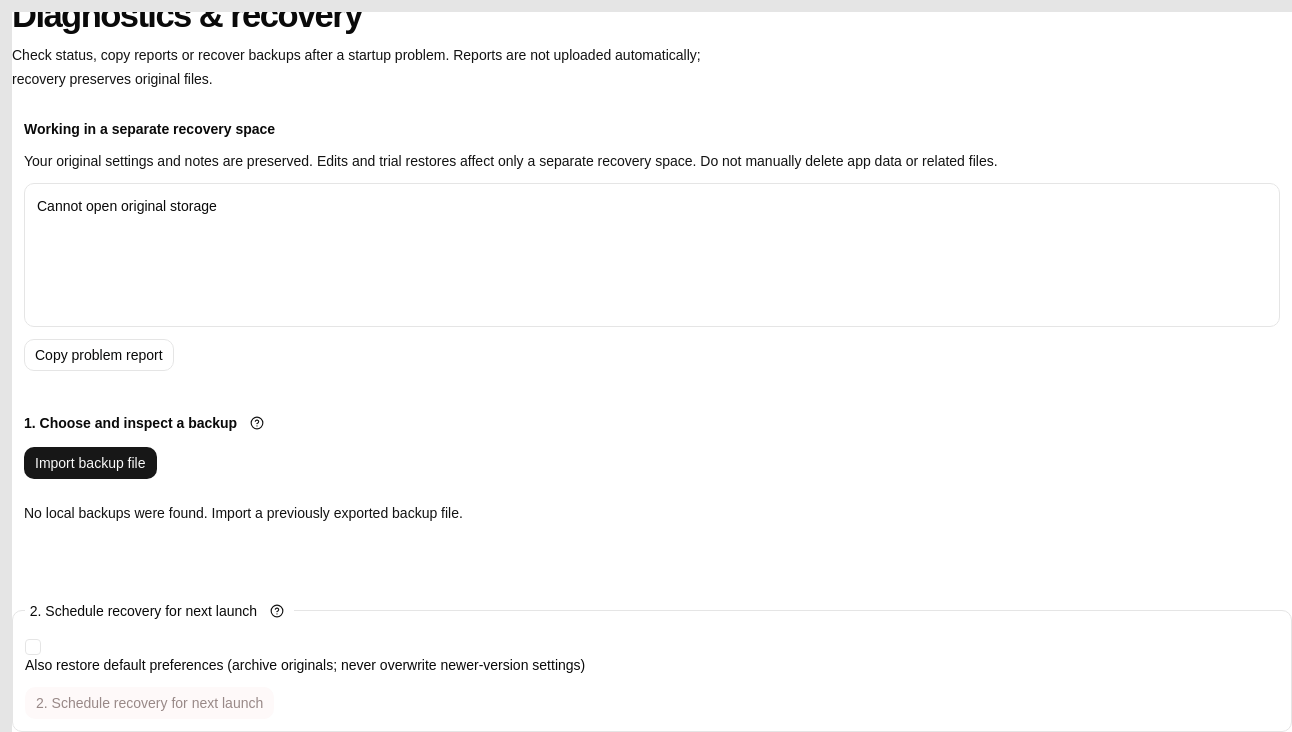
it: isolated startup recovery › keeps invalid imports out of the recovery database and preserves the failure message
(page scrolled)
Click the button "Import backup file" at (90, 463), box top-left (24, 447), bottom-right (156, 479)
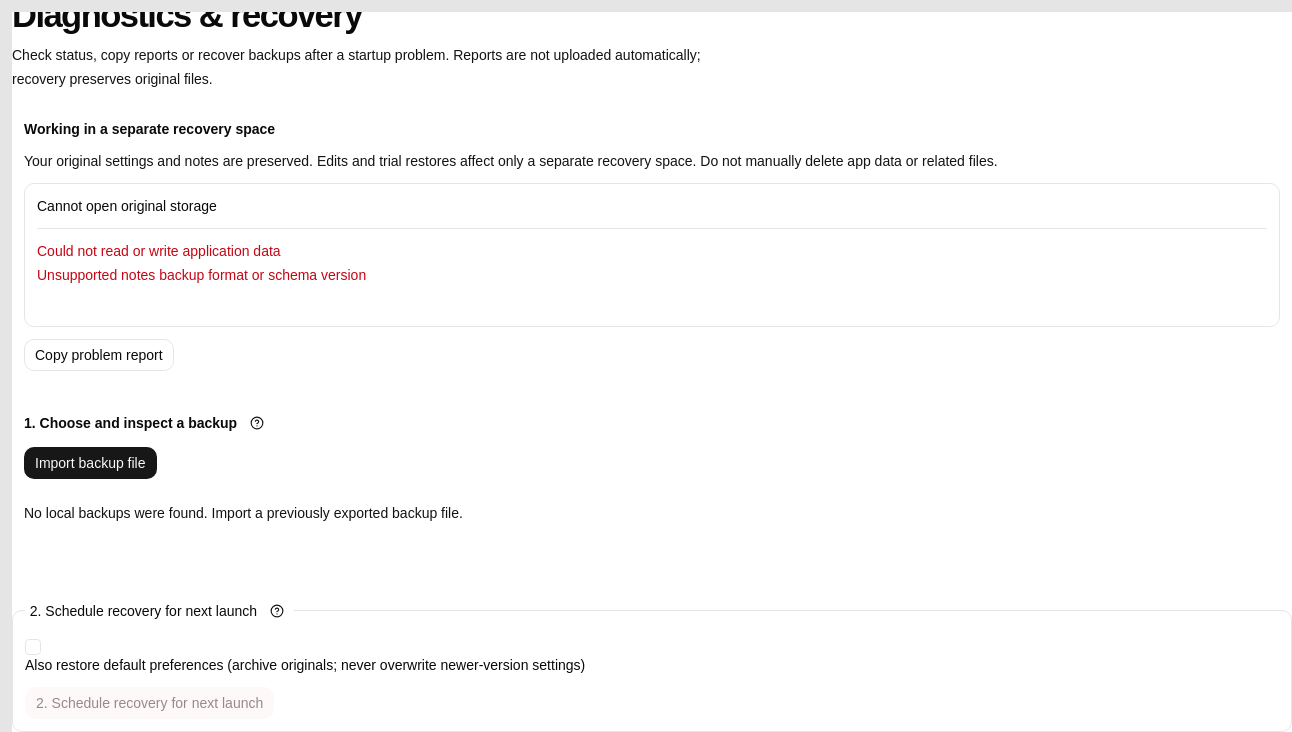
Now the number of messages is 2, box top-left (37, 198), bottom-right (217, 214); top-left (37, 243), bottom-right (281, 259)
Now the text "Unsupported notes backup format or schema version" is shown, box top-left (37, 267), bottom-right (366, 283)
